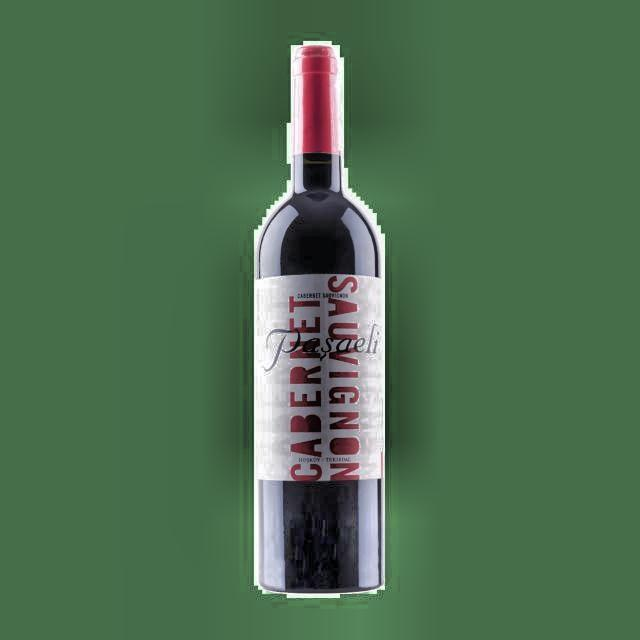glass: (254, 43, 386, 600)
